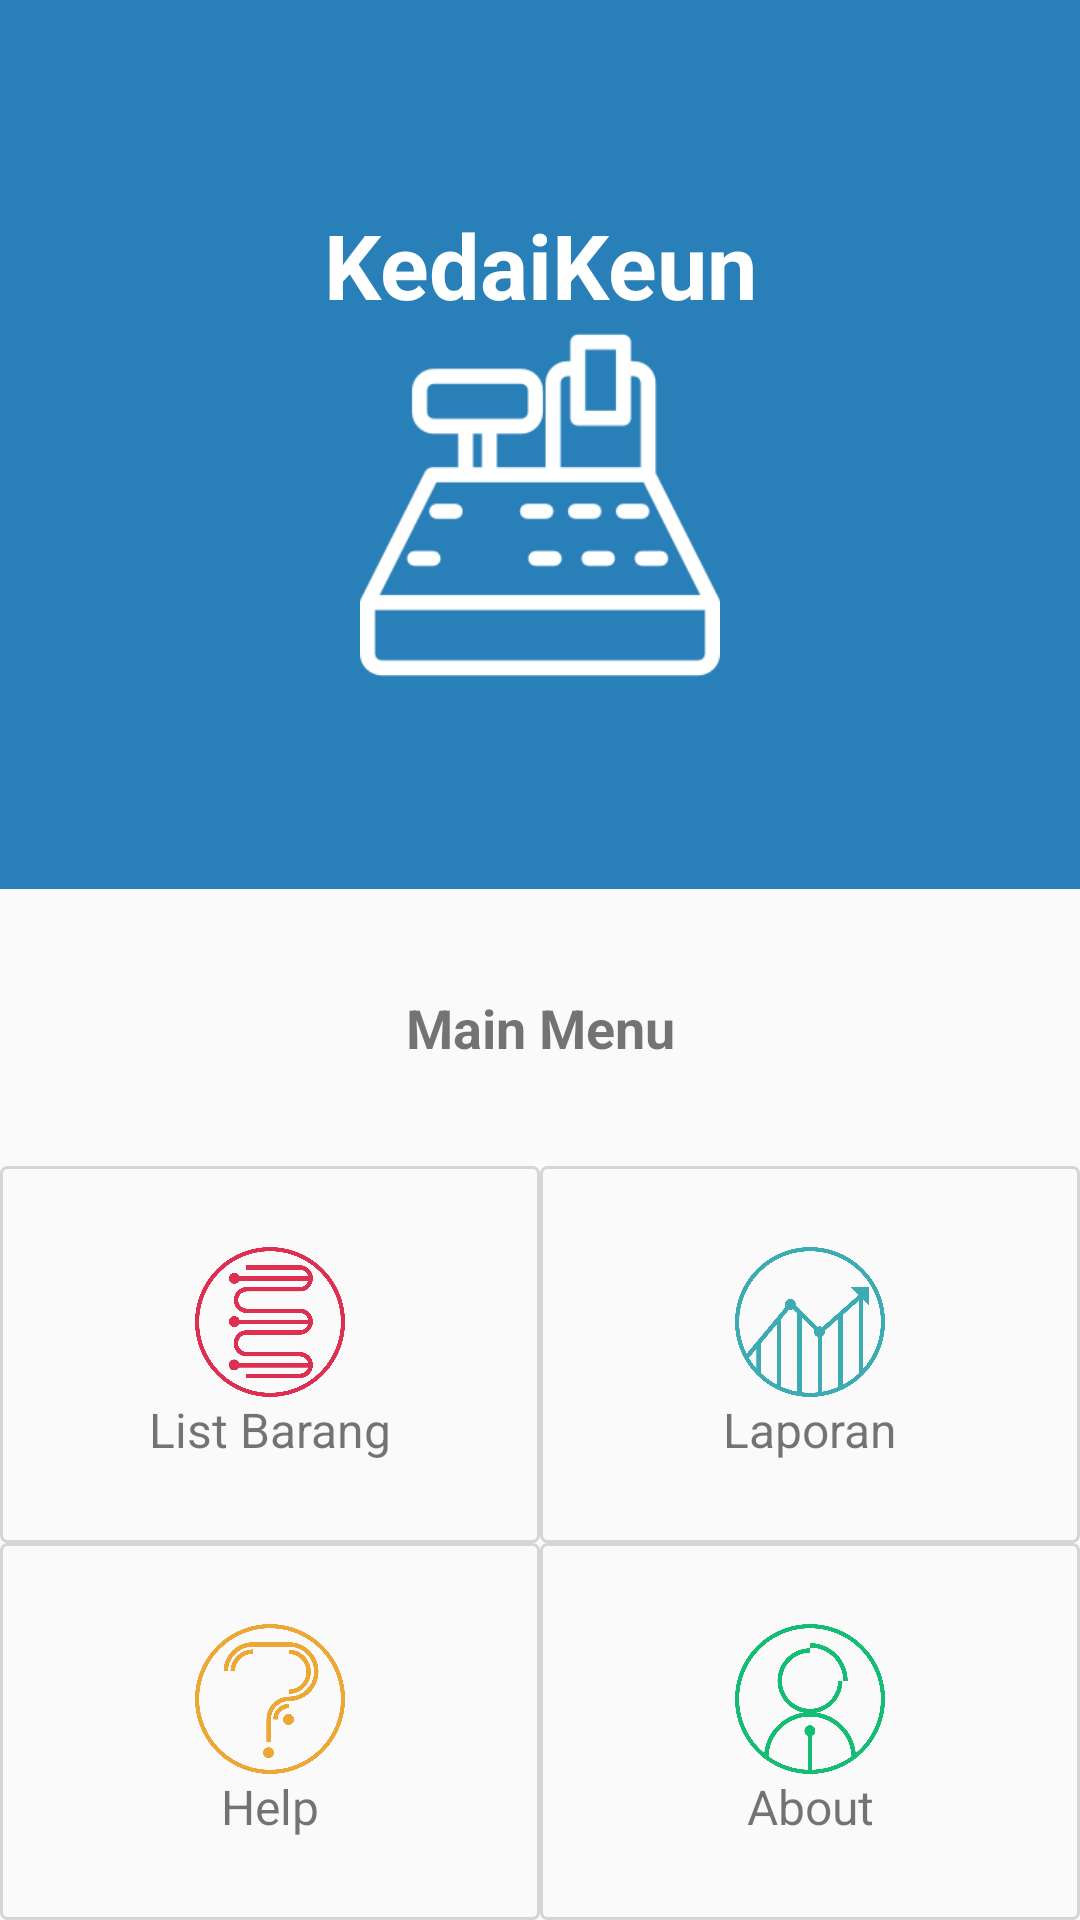

Icon bounding boxes for this 1080x1920 phone screenshot, format [x1=x1, y1=y1, x2=x2, y2=y2]:
cashier: [x1=360, y1=334, x2=720, y2=676]
